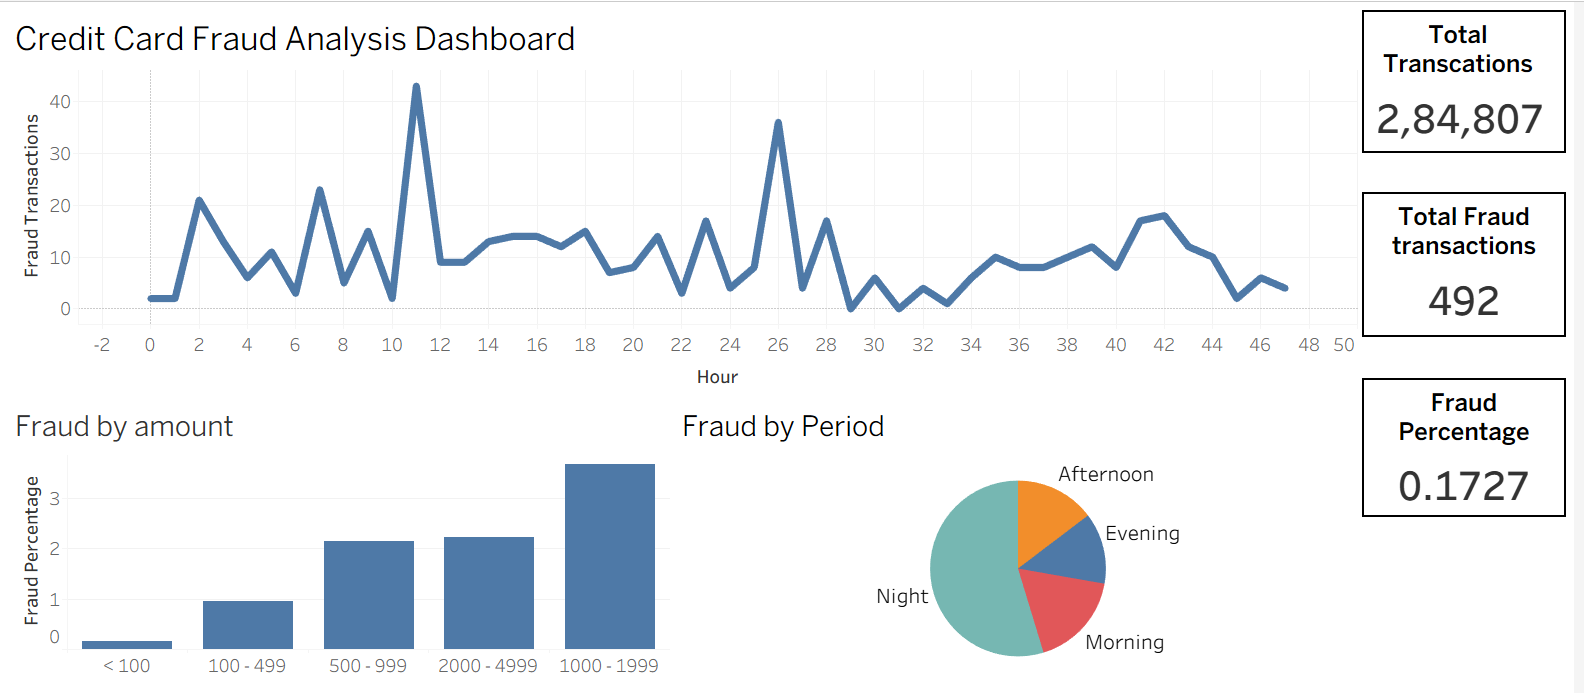

Layout of this report page (visuals, bound fields, positions):
{"tool":"tableau","page":{"name":"Credit Card Fraud Analysis Dashboard","canvas":[1000,1000],"units":"permille","ordinal":0},"visuals":[{"type":"worksheet","title":"Fraud by Hour","mark":"Line","rows":["fraud_txn"],"cols":["hour"],"box":[5.1,11.6,860.3,563.6]},{"type":"worksheet","title":"Total Transcations","mark":"Automatic","box":[866.7,14.5,127,196.5]},{"type":"worksheet","title":"Total Fraud","mark":"Text","box":[866.7,277.4,127,198]},{"type":"worksheet","title":"Fraud Percentage","mark":"Automatic","box":[866.7,546.2,127,195.1]},{"type":"worksheet","title":"Fraud by amount","mark":"Automatic","rows":["fraud_percentage"],"cols":["Calculation_684828627762589696"],"box":[5.1,575.1,423.5,413.3]},{"type":"worksheet","title":"Fraud by Period","mark":"Pie","box":[428.6,575.1,436.8,413.3]}]}

Visuals, with their boxes on the dashboard's canvas, which has no fixed pixel size, in thousandths of its width and height (x1, y1, x2, y2). These are canvas units, not pixel positions in the 1584x693 screenshot, which may show the page scaled, cropped or inside an application window:
"Fraud by Hour" worksheet (Line marks): <bbox>5, 12, 865, 575</bbox>
"Total Transcations" worksheet: <bbox>867, 14, 994, 211</bbox>
"Total Fraud" worksheet (Text marks): <bbox>867, 277, 994, 475</bbox>
"Fraud Percentage" worksheet: <bbox>867, 546, 994, 741</bbox>
"Fraud by amount" worksheet: <bbox>5, 575, 429, 988</bbox>
"Fraud by Period" worksheet (Pie marks): <bbox>429, 575, 865, 988</bbox>
